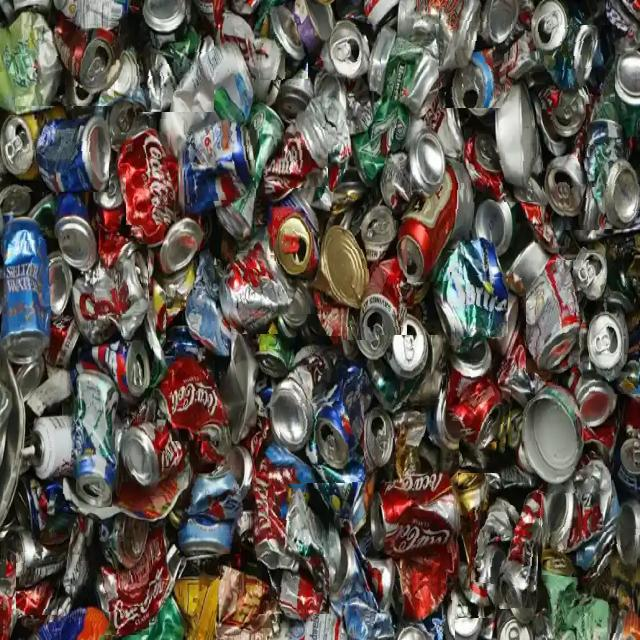Cans: (366, 421, 460, 556), (248, 466, 329, 614), (275, 376, 364, 484), (15, 16, 119, 106), (125, 8, 214, 112), (336, 220, 407, 340), (522, 400, 612, 493), (439, 3, 514, 108), (446, 359, 514, 474), (392, 183, 468, 284), (542, 519, 640, 597), (558, 137, 640, 230), (471, 505, 543, 610), (526, 260, 590, 374), (50, 392, 112, 507), (353, 573, 455, 640), (536, 25, 615, 109), (9, 230, 62, 350), (121, 388, 178, 498), (542, 575, 633, 640), (262, 336, 344, 408), (589, 280, 640, 394), (182, 127, 256, 203), (126, 109, 172, 225), (18, 134, 109, 192), (92, 543, 149, 635), (172, 352, 230, 441), (471, 136, 543, 202), (166, 244, 214, 342), (389, 46, 446, 128), (275, 213, 321, 314), (223, 250, 278, 334), (378, 336, 442, 408), (173, 583, 257, 635), (317, 24, 381, 91), (190, 478, 242, 554), (256, 5, 308, 80), (16, 534, 64, 615), (450, 272, 508, 337), (96, 244, 148, 316), (278, 127, 328, 189), (104, 332, 152, 385), (450, 579, 495, 618)
